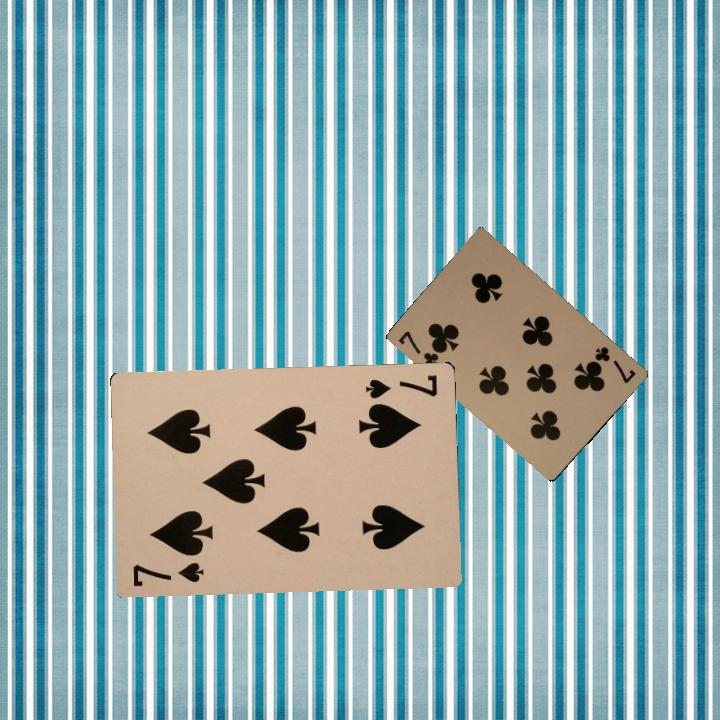7c: (394, 327, 445, 370), (591, 342, 639, 386)
7s: (362, 371, 440, 402), (128, 558, 206, 589)
